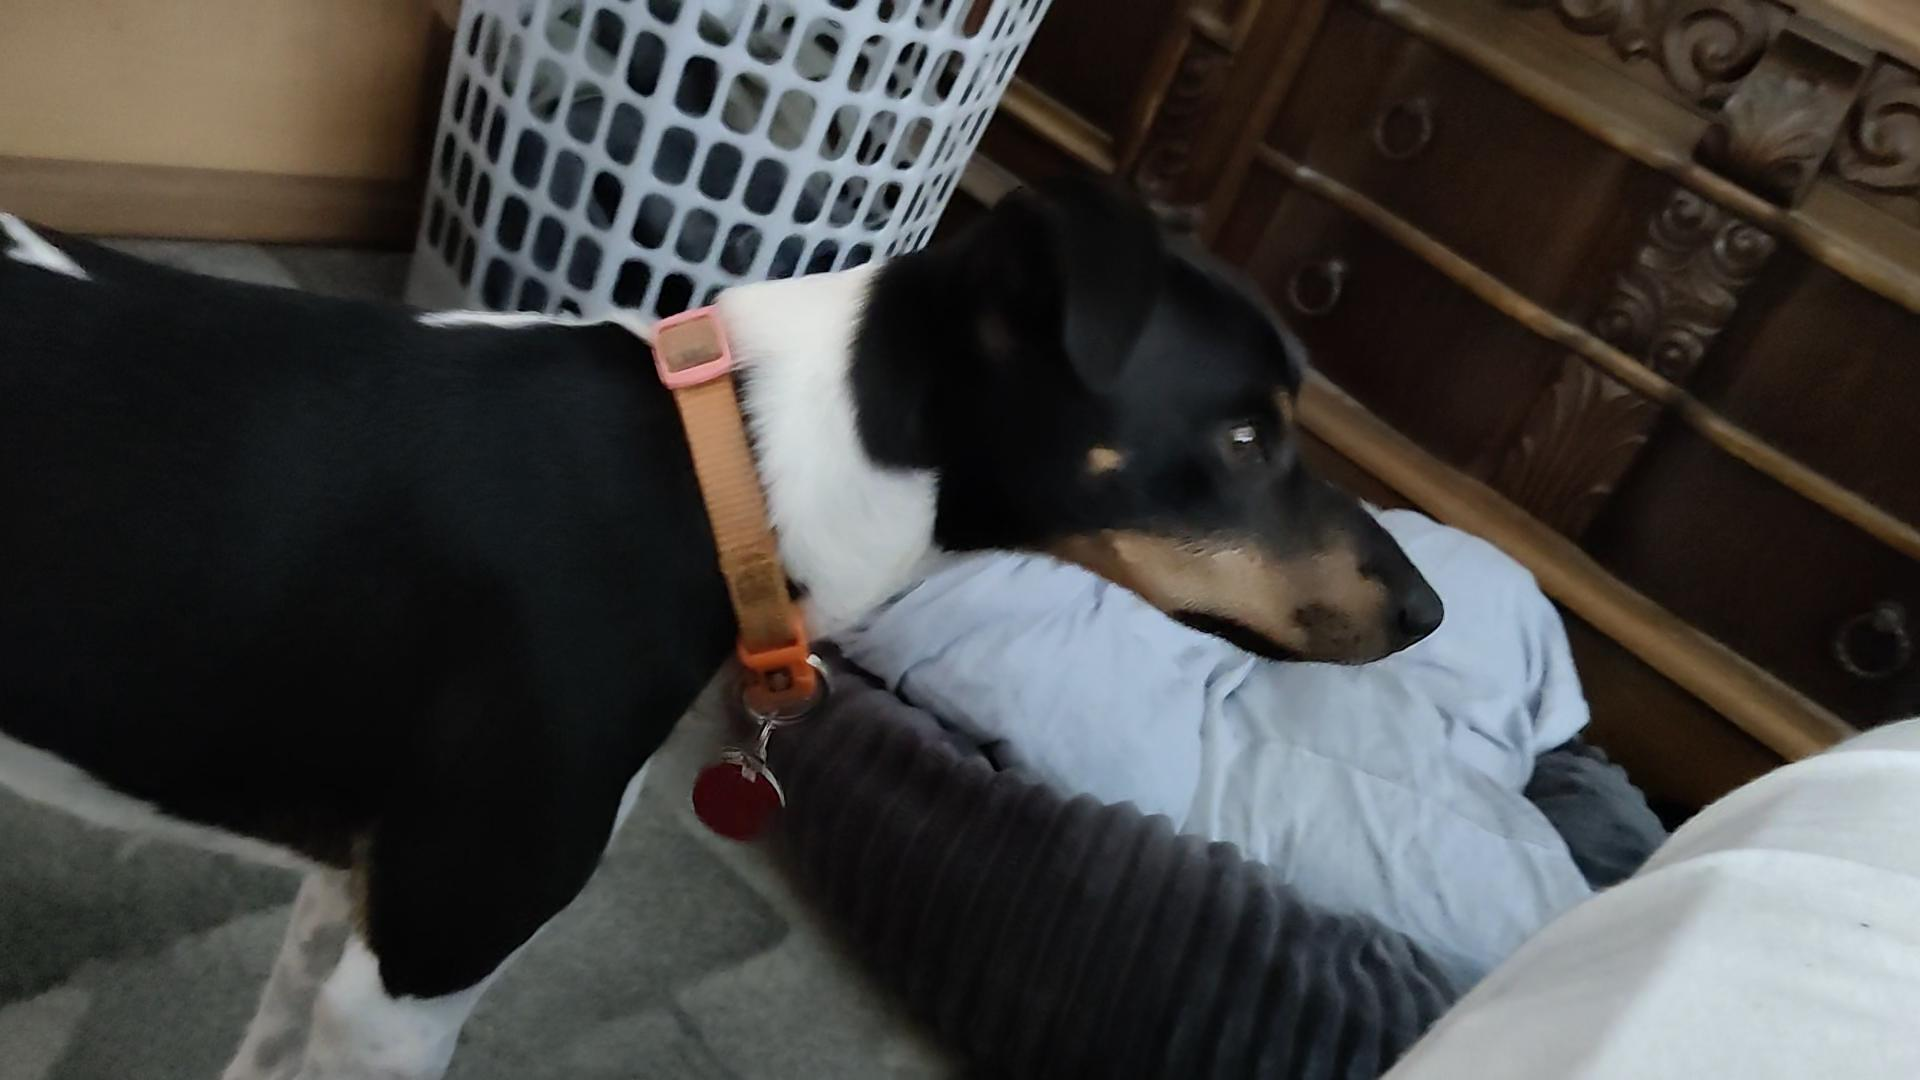Dog: (0, 171, 1448, 1079)
